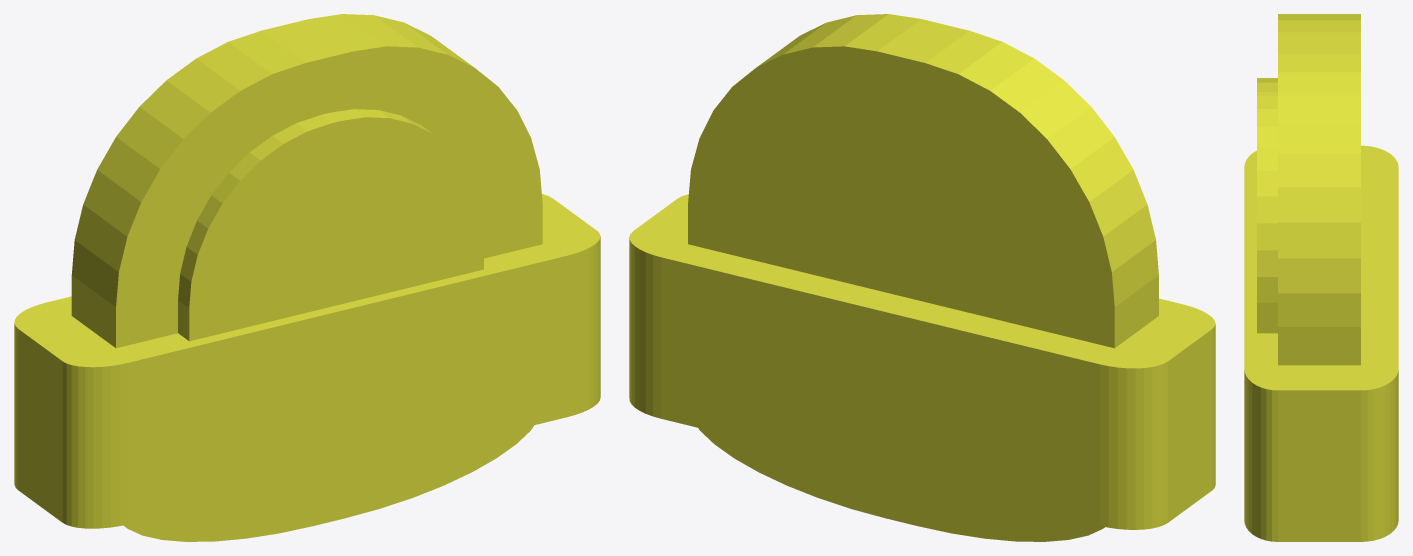
File: walllight.fbx
3 views of the same model, side by side, from view 1: azimuth 30°, elevation 25°; view 2: azimuth 150°, elevation 25°; view 3: azimuth 270°, elevation 25° (orthographic). The views are drawn at different scales.
Parts seen in each view (by area): view 1: Cube; view 2: Cube; view 3: Cube.
Boxes of the visible parts, x1,y1,x2,y2 form: Cube: (14,14,600,541); Cube: (629,14,1215,541); Cube: (1244,14,1398,541).
Size of the model in its own units: 750 by 624 by 200.
